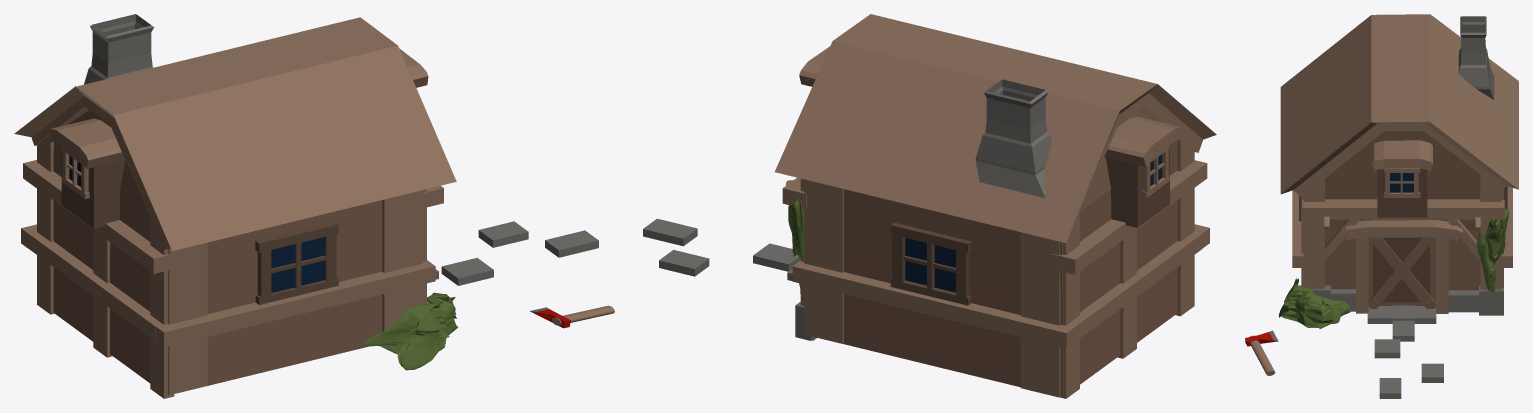
File: Cabin.glb
3 views of the same model, side by side, from view 1: azimuth 30°, elevation 25°; view 2: azimuth 150°, elevation 25°; view 3: azimuth 270°, elevation 25° (orthographic). The views are drawn at different scales.
Visible parts, largest first — view 1: Roof_Base, Box, Cube019, PillarL1, PillarL, Icosphere004, Chimney, Cube034, Cube033, Pop-out001, door_frame3002, PillarB (+10 smaller); view 2: Roof_Base, Box, Chimney, Cube026, Pillar1R, PillarR, Cube034, Cube033, Pop-out001, door_frame3002, PillarB, PillarB001 (+11 smaller); view 3: Roof_Base, Box, Cube005, Chimney, Cube070, door_frame3, Icosphere004, Cube030_1, Pillar1, door_frame3001, Pop-out, door_frame2 (+20 smaller).
Boxes of the visible parts, bbox=[...] form: Roof_Base: bbox=[14, 17, 456, 250]; Box: bbox=[53, 110, 382, 385]; Cube019: bbox=[156, 260, 435, 347]; PillarL1: bbox=[168, 242, 207, 395]; PillarL: bbox=[382, 190, 422, 331]; Icosphere004: bbox=[364, 292, 458, 370]; Chimney: bbox=[84, 14, 154, 84]; Cube034: bbox=[29, 232, 162, 341]; Cube033: bbox=[23, 160, 176, 273]; Pop-out001: bbox=[61, 147, 125, 228]; door_frame3002: bbox=[49, 118, 124, 169]; PillarB: bbox=[150, 218, 174, 398]; Roof_Base: bbox=[775, 14, 1216, 243]; Box: bbox=[843, 110, 1177, 397]; Chimney: bbox=[975, 79, 1051, 197]; Cube026: bbox=[792, 261, 1074, 348]; Pillar1R: bbox=[1020, 232, 1060, 397]; PillarR: bbox=[804, 179, 843, 343]; Cube034: bbox=[1066, 232, 1202, 341]; Cube033: bbox=[1052, 160, 1207, 274]; Pop-out001: bbox=[1106, 145, 1169, 227]; door_frame3002: bbox=[1104, 116, 1183, 167]; PillarB: bbox=[1176, 140, 1194, 316]; PillarB001: bbox=[1060, 212, 1079, 398]; Roof_Base: bbox=[1280, 14, 1518, 197]; Box: bbox=[1325, 131, 1480, 305]; Cube005: bbox=[1302, 199, 1504, 219]; Chimney: bbox=[1458, 16, 1494, 99]; Cube070: bbox=[1373, 237, 1429, 302]; door_frame3: bbox=[1341, 220, 1462, 241]; Icosphere004: bbox=[1279, 278, 1351, 328]; Cube030_1: bbox=[1368, 237, 1435, 308]; Pillar1: bbox=[1303, 179, 1324, 288]; door_frame3001: bbox=[1372, 140, 1432, 171]; Pop-out: bbox=[1377, 168, 1427, 217]; door_frame2: bbox=[1436, 237, 1448, 313].
Size of what is drawn, in the model's own units: 9.56 by 5.19 by 5.66.
